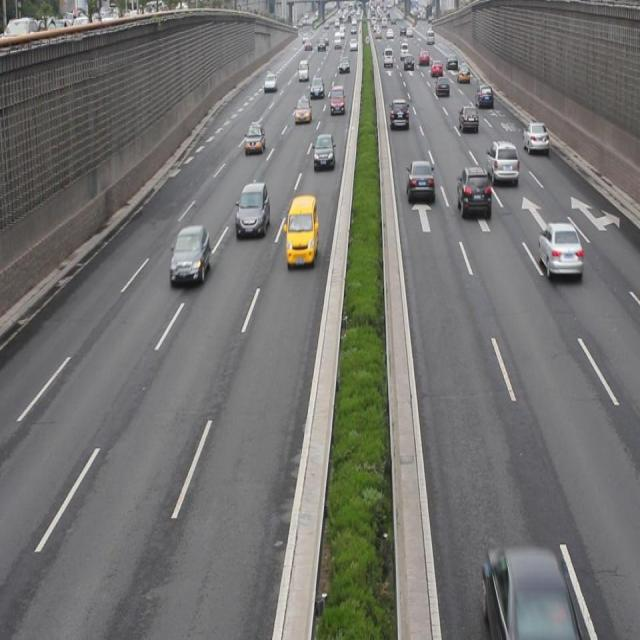car: (482, 544, 577, 640), (536, 218, 582, 276), (171, 224, 211, 283), (456, 164, 491, 220), (236, 181, 269, 236), (486, 139, 519, 183), (406, 158, 435, 202), (522, 120, 550, 152), (312, 133, 335, 169), (244, 121, 264, 155), (458, 104, 479, 136), (389, 98, 410, 128)
truck: (285, 194, 318, 267)
